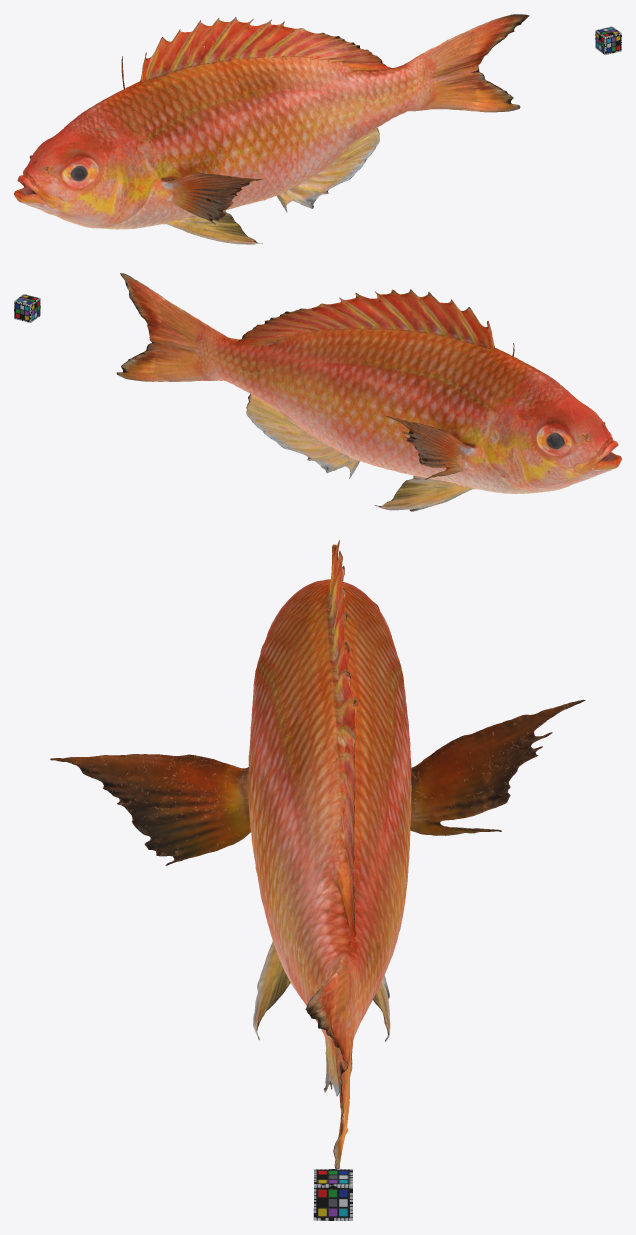
File: cc0___rosy_dwarf_monocle_bream.glb
3 renders of one model, top to bottom at view 1: azimuth 30°, elevation 25°; view 2: azimuth 150°, elevation 25°; view 3: azimuth 270°, elevation 25°, orthographic. The views are drawn at different scales.
Visible parts, largest first — view 1: YAKU040W-01-1-1_1, Cube_0; view 2: YAKU040W-01-1-1_1, Cube_0; view 3: YAKU040W-01-1-1_1, Cube_0.
Boxes of the visible parts, bbox=[...] form: YAKU040W-01-1-1_1: bbox=[14, 14, 529, 244]; Cube_0: bbox=[595, 26, 621, 54]; YAKU040W-01-1-1_1: bbox=[116, 273, 621, 511]; Cube_0: bbox=[14, 294, 40, 322]; YAKU040W-01-1-1_1: bbox=[50, 540, 585, 1168]; Cube_0: bbox=[313, 1169, 352, 1220].
Size of the model in its own units: 0.3445 by 0.1191 by 0.1331.
Materials: 2 (2 with a texture image).
